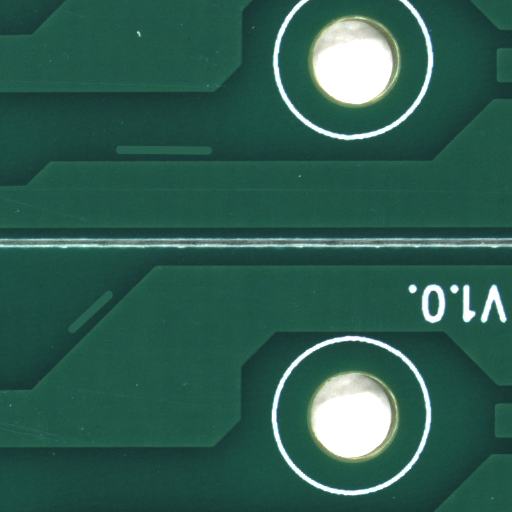Spurious_copper: (89, 311, 135, 354), (161, 150, 262, 165)
